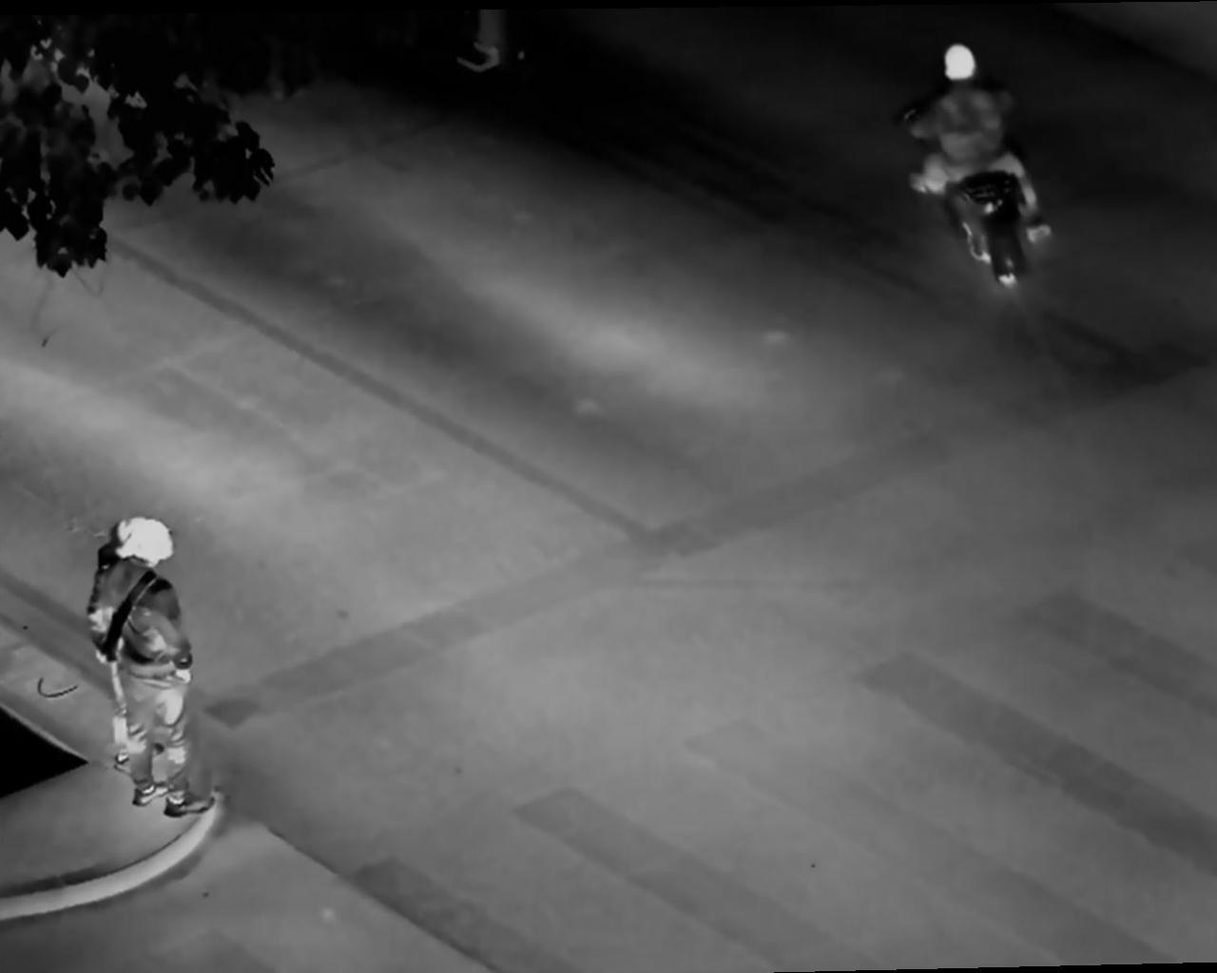person: (89, 519, 227, 816), (905, 37, 1064, 268)
